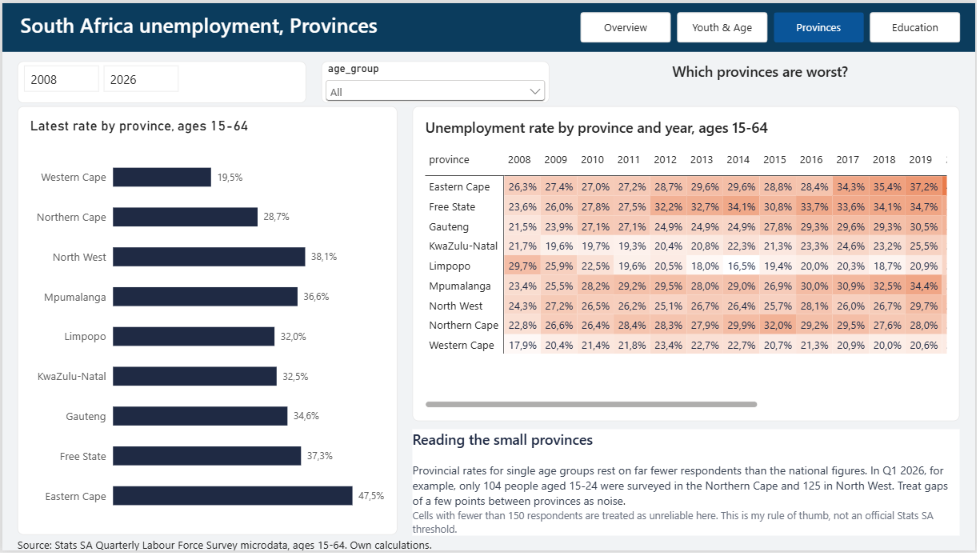

Layout of this report page (visuals, bound fields, positions):
{"tool":"powerbi","page":{"name":"Provinces","canvas":[1280,720],"ordinal":2},"visuals":[{"type":"shape","box":[0,0,1280,64],"z":0},{"type":"pageNavigator","box":[760,12,500,40],"z":1000},{"type":"slicer","fields":{"Values":["Dim_Date.year"]},"box":[20,76,380,55],"z":2000},{"type":"textbox","box":[24,10,720,44],"z":3000},{"type":"textbox","box":[740,76,520,48],"z":4000},{"type":"textbox","box":[20,702,1240,18],"z":5000},{"type":"slicer","title":"Province","fields":{"Values":["Dim_Age.age_group"]},"box":[420,76,300,55],"z":6000},{"type":"clusteredBarChart","fields":{"Category":["Dim_Province.province"],"Y":["_Measures.Latest Rate by Province"]},"box":[20,136,500,564],"z":7000},{"type":"pivotTable","fields":{"Rows":["Dim_Province.province"],"Columns":["Dim_Date.year"],"Values":["_Measures.Rate Province Age"]},"box":[540,136,720,414],"z":8000},{"type":"textbox","box":[540,560,720,140],"z":9000}]}

Visuals, with their boxes in screenshot pixels (x1, y1, x2, y2), scaled from the page's 1280x720 canvas onto the 977x553 screenshot:
shape: x1=0 y1=0 x2=976 y2=49
pageNavigator: x1=580 y1=9 x2=962 y2=40
slicer - Dim_Date.year: x1=15 y1=58 x2=305 y2=101
textbox: x1=18 y1=8 x2=568 y2=41
textbox: x1=565 y1=58 x2=962 y2=95
textbox: x1=15 y1=539 x2=962 y2=552
"Province" slicer: x1=321 y1=58 x2=550 y2=101
clusteredBarChart - Dim_Province.province x _Measures.Latest Rate by Province: x1=15 y1=104 x2=397 y2=538
pivotTable - Dim_Province.province x Dim_Date.year: x1=412 y1=104 x2=962 y2=422
textbox: x1=412 y1=430 x2=962 y2=538
